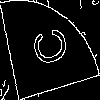C: (25, 25, 69, 71)
